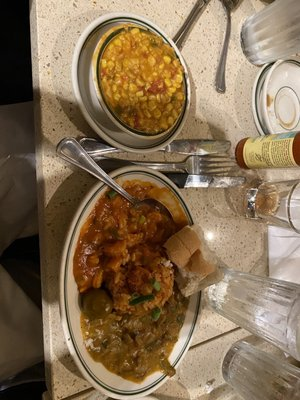pizza: (220, 332, 300, 400)
salad: (57, 136, 174, 217)
sushi: (71, 13, 191, 149)
